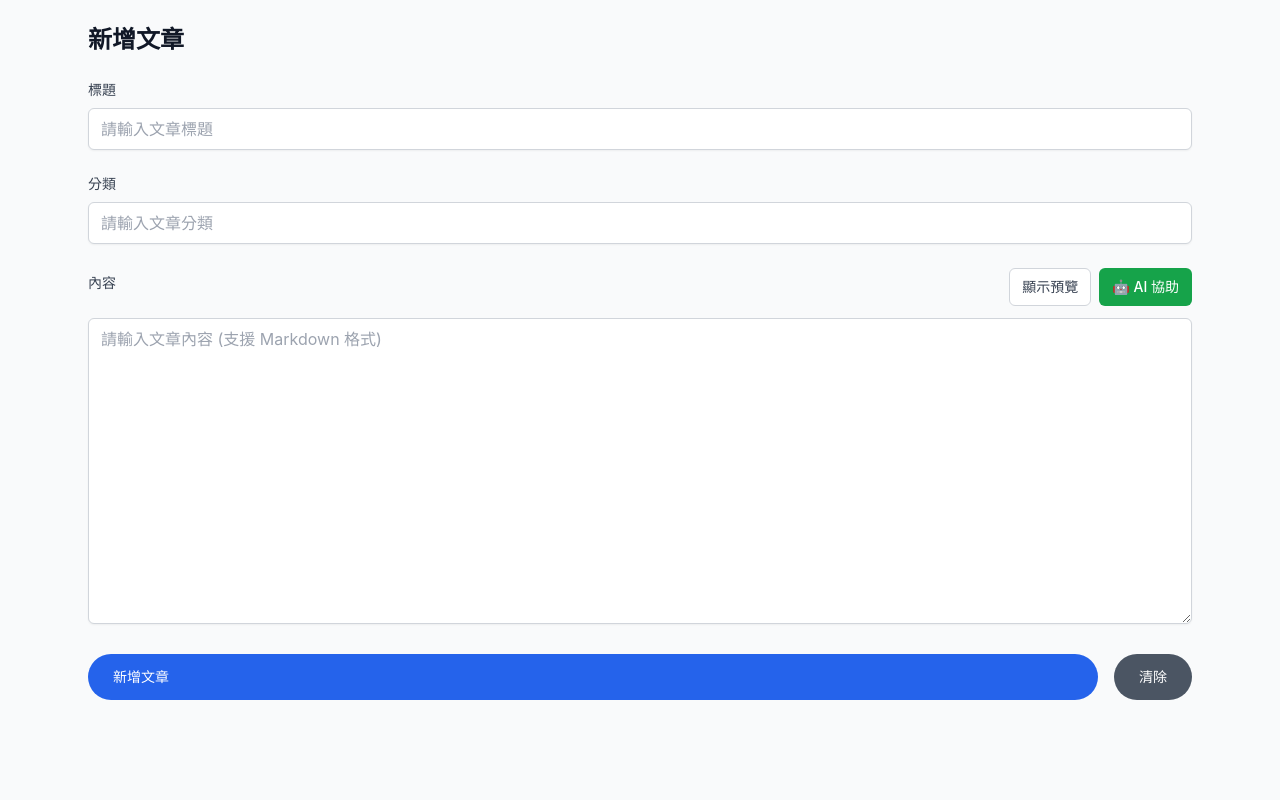
ArticleForm › should reset form when reset button is clicked
This screenshot has width=1280, height=800.
Note: Fill form
In the field named "title": (640, 129) [88,108,1192,150], type "Test Title"
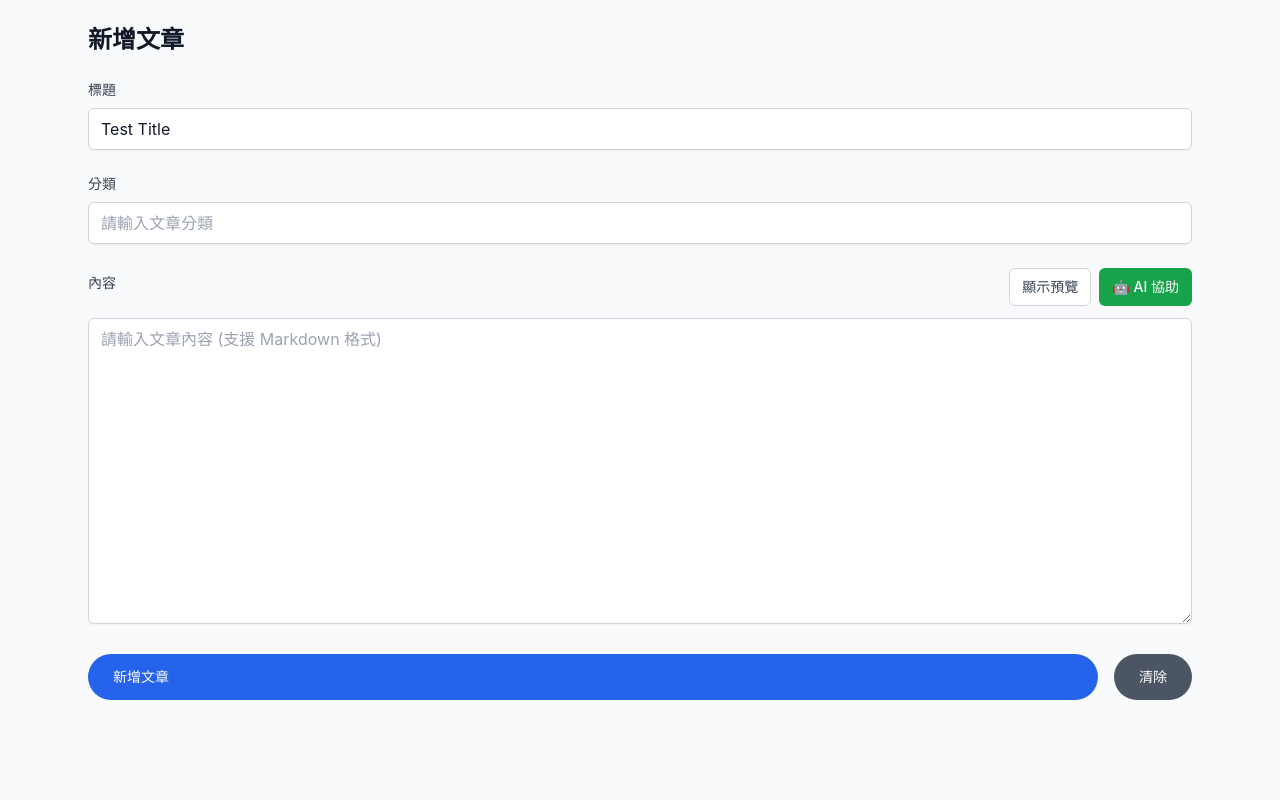
In the field named "category": (640, 223) [88,202,1192,244], type "Test Category"
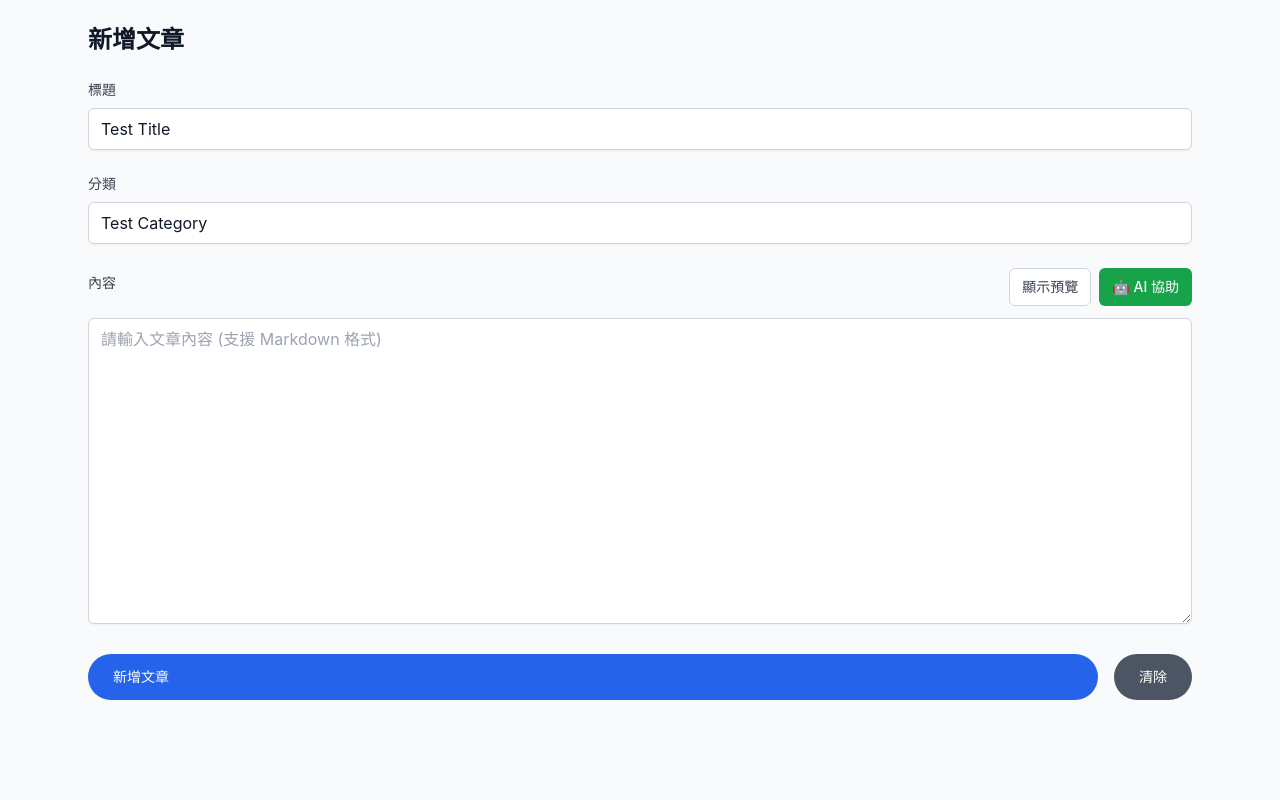
In the text box named "content": (640, 471) [88,318,1192,624], type "Test Content"
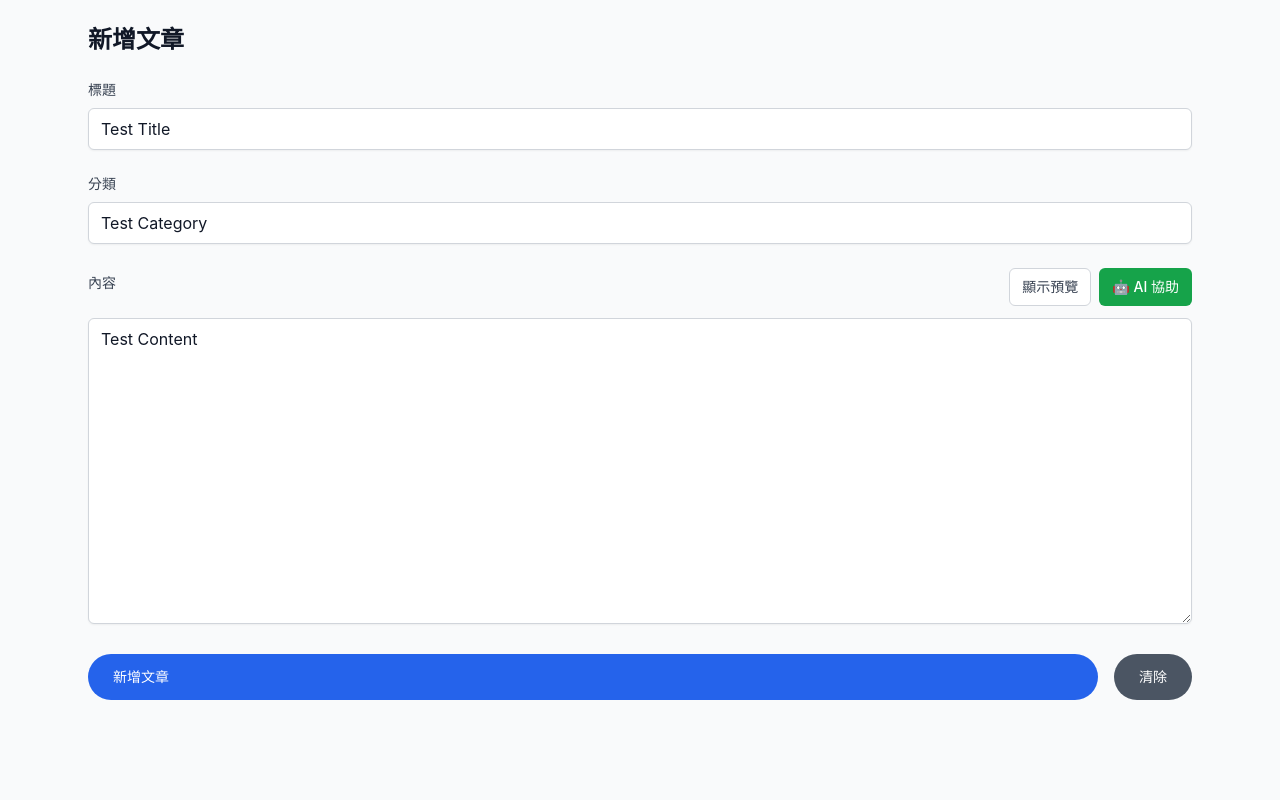
Note: Click reset button (specifically the one with text 清除)
Click the button "清除": (1153, 677) [1114,654,1192,700]
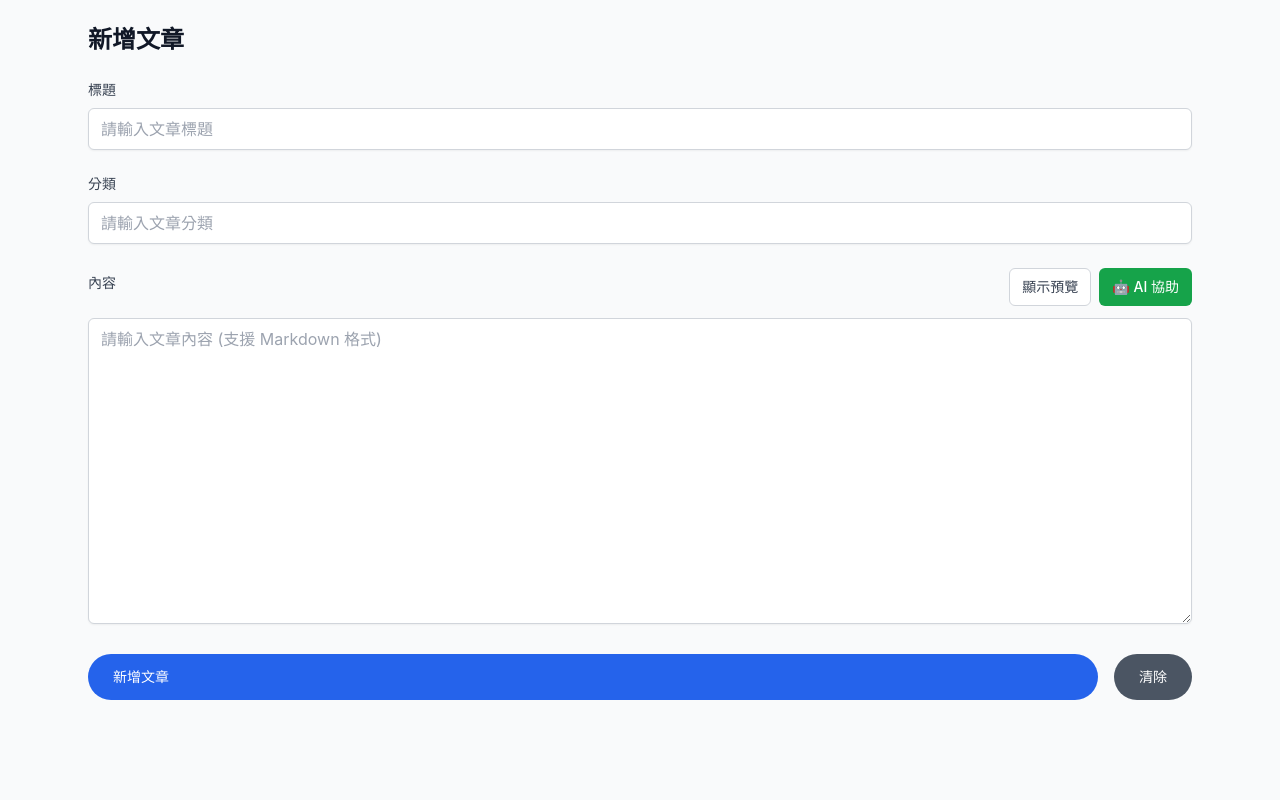
Check: the field named "title" is empty, box [88,108,1192,150]
Check: the field named "category" is empty, box [88,202,1192,244]
Check: the text box named "content" is empty, box [88,318,1192,624]
